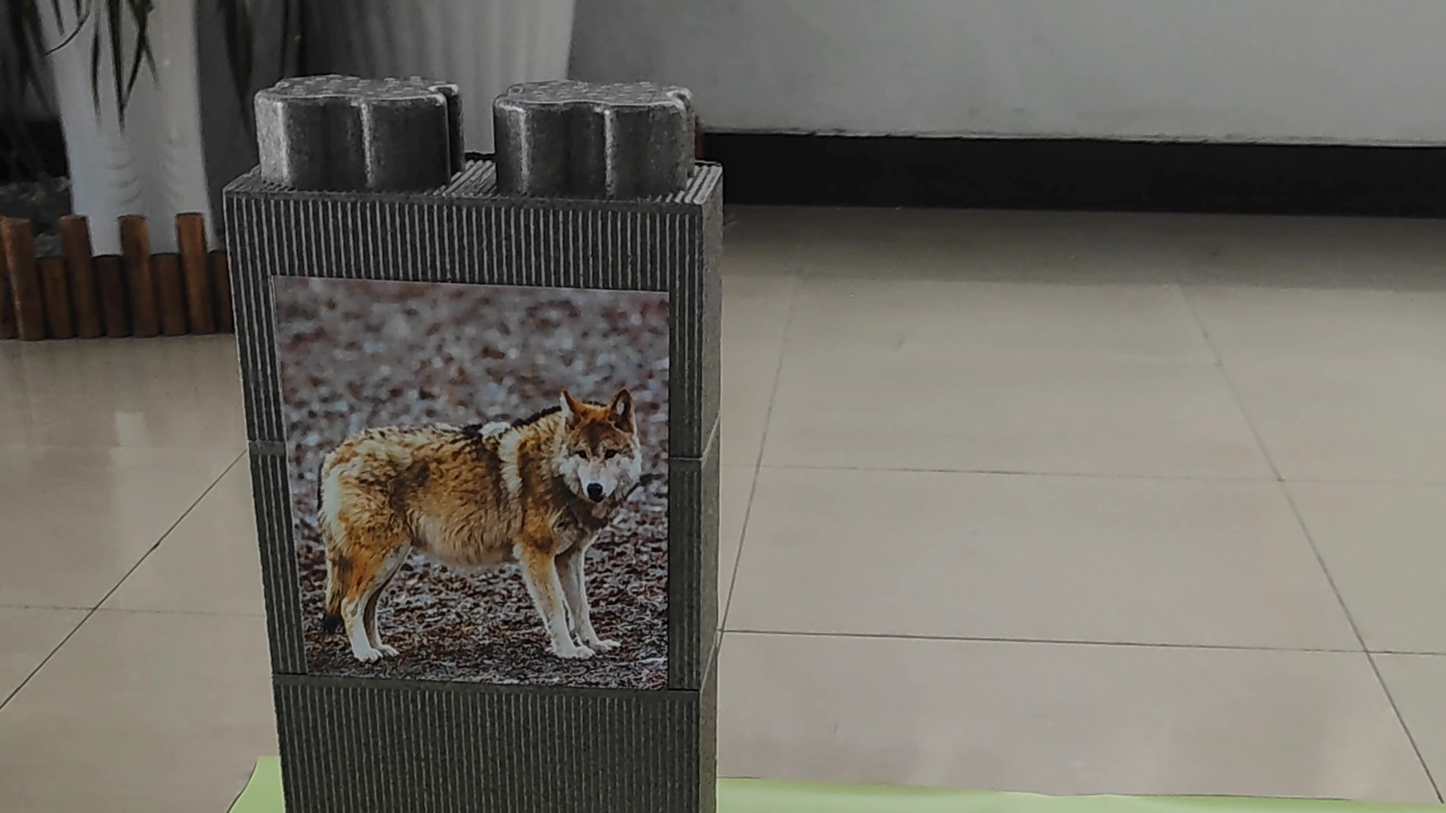wolf: (294, 329, 660, 691)
